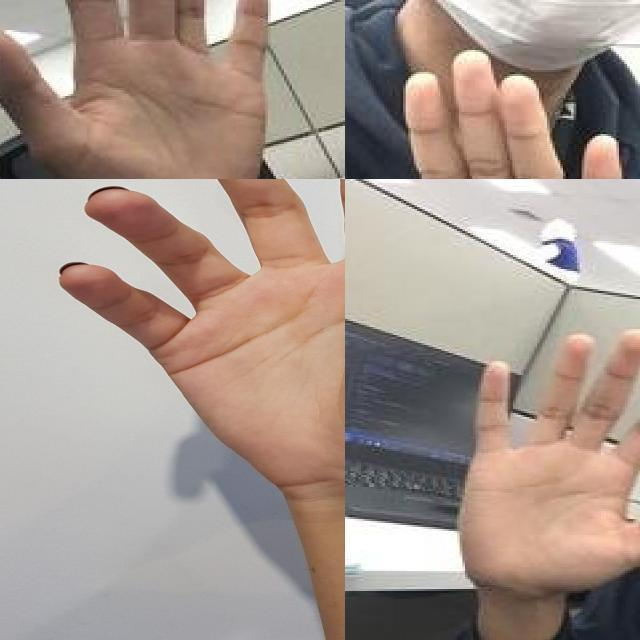hand: (57, 179, 345, 497), (456, 327, 640, 603), (0, 0, 276, 179), (345, 50, 632, 179)
